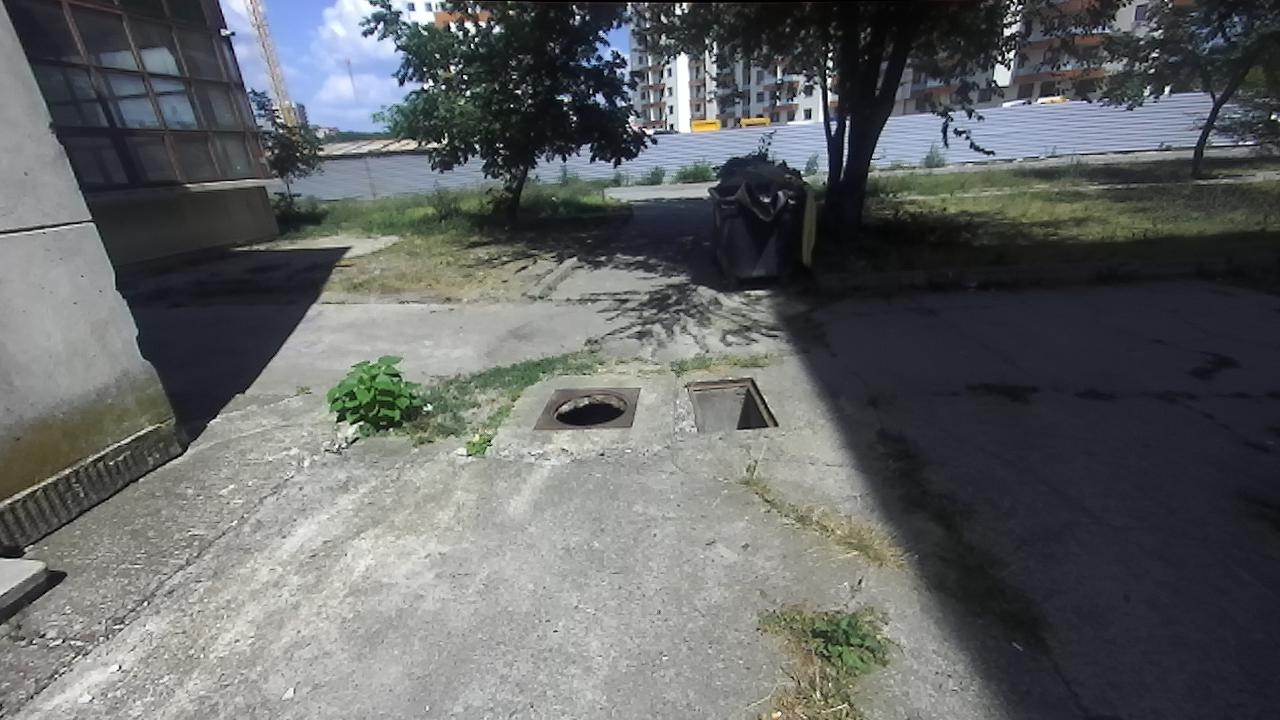drain: (684, 374, 781, 436), (548, 388, 629, 430)
